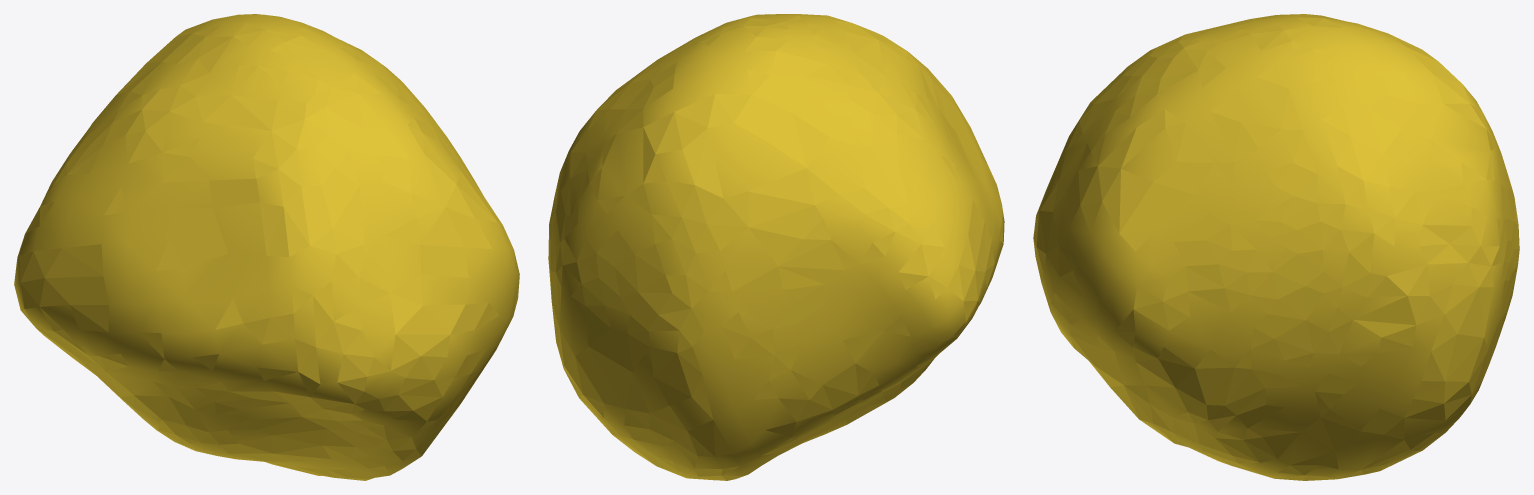
Rendered from yellow_rock_mid.dae.
The picture shows the model from 3 angles, left to right: view 1: azimuth 30°, elevation 25°; view 2: azimuth 150°, elevation 25°; view 3: azimuth 270°, elevation 25°; orthographic projection. The views are drawn at different scales.
Visible parts, largest first — view 1: Rock_048_Cube_063; view 2: Rock_048_Cube_063; view 3: Rock_048_Cube_063.
Part boxes in pixels (x1,y1,x2,y2): Rock_048_Cube_063: [14, 14, 519, 480]; Rock_048_Cube_063: [548, 14, 1004, 480]; Rock_048_Cube_063: [1033, 14, 1519, 480].
Bounding box in the file's own units: 0.6142 × 0.6556 × 0.6386.
